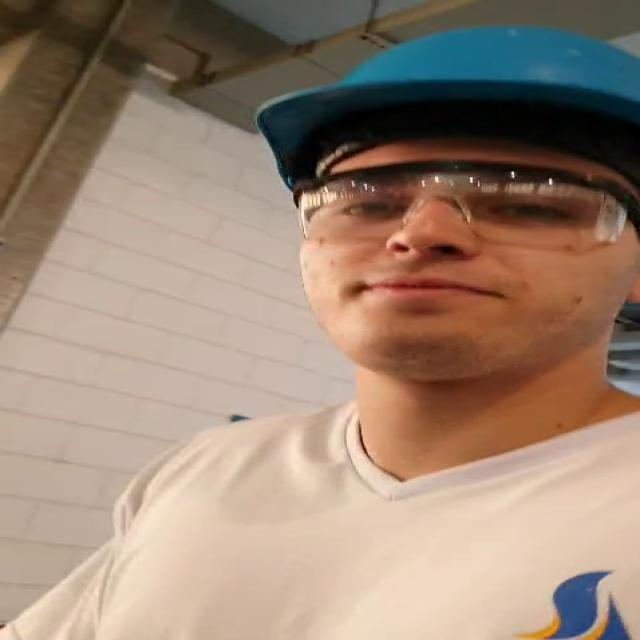oculos-epi: (299, 161, 633, 252)
